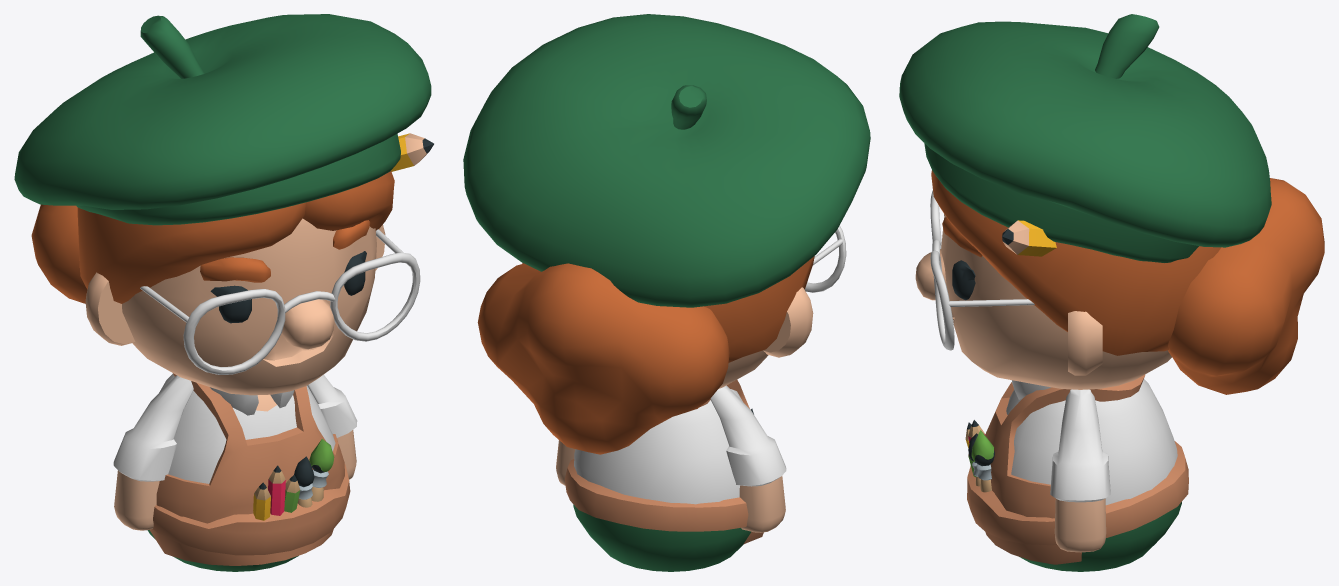
The model's file is character_artist.gltf.
3 views of the same model, side by side, from view 1: azimuth 30°, elevation 25°; view 2: azimuth 150°, elevation 25°; view 3: azimuth 270°, elevation 25° (orthographic). The views are drawn at different scales.
Parts seen in each view (by area): view 1: character_artist_hat, character_artist_head, character_artist_body, character_artist_armRight, character_artist_glasses, character_artist_armLeft, character_artist_pencil; view 2: character_artist_hat, character_artist_head, character_artist_body, character_artist_armRight, character_artist_glasses, character_artist_armLeft; view 3: character_artist_hat, character_artist_head, character_artist_body, character_artist_armLeft, character_artist_glasses, character_artist_pencil.
Boxes of the visible parts, x1,y1,x2,y2 form: character_artist_hat: (14, 14, 431, 225); character_artist_head: (31, 171, 394, 395); character_artist_body: (147, 373, 350, 571); character_artist_armRight: (113, 375, 193, 530); character_artist_glasses: (140, 229, 420, 374); character_artist_armLeft: (307, 374, 357, 479); character_artist_pencil: (391, 133, 433, 171); character_artist_hat: (463, 14, 870, 307); character_artist_head: (477, 256, 814, 454); character_artist_body: (564, 380, 763, 571); character_artist_armRight: (710, 385, 786, 532); character_artist_glasses: (805, 225, 846, 292); character_artist_armLeft: (556, 440, 575, 485); character_artist_hat: (899, 14, 1271, 262); character_artist_head: (915, 170, 1324, 394); character_artist_body: (965, 374, 1188, 571); character_artist_armLeft: (1050, 389, 1110, 552); character_artist_glasses: (930, 190, 1034, 350); character_artist_pencil: (1002, 220, 1056, 256).
Bounding box in the file's own units: 1.46 × 1.96 × 1.5.
